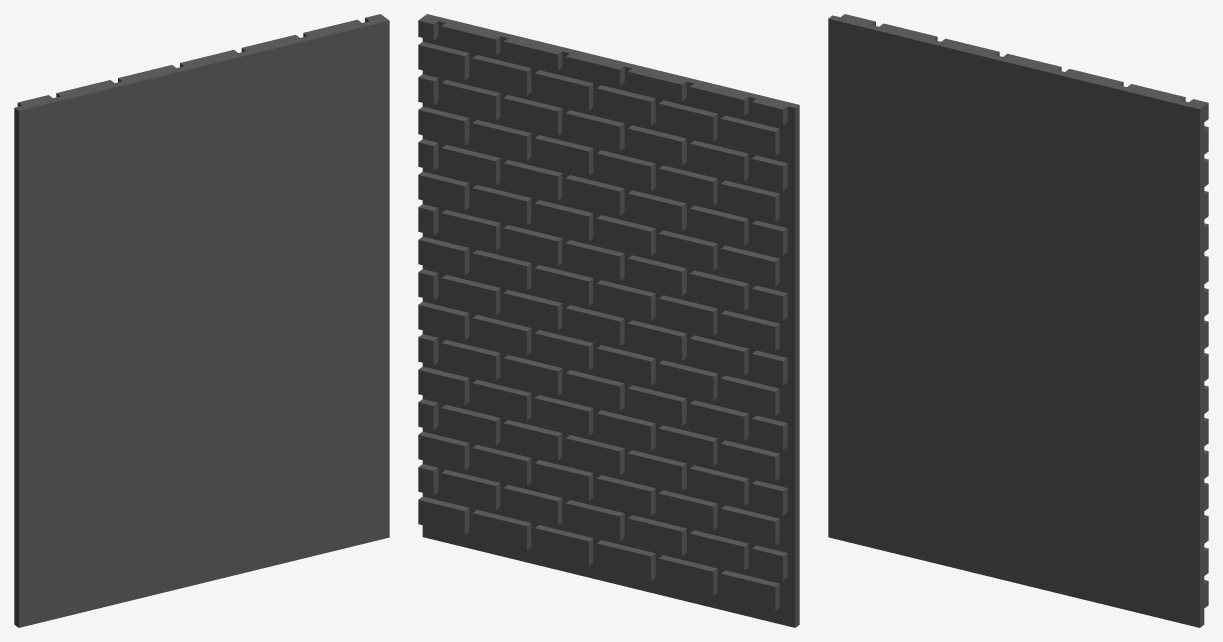
File: MapV3-44.obj
3 renders of one model, left to right at view 1: azimuth 30°, elevation 25°; view 2: azimuth 150°, elevation 25°; view 3: azimuth 330°, elevation 25°, orthographic.
Size of the model in its own units: 4.8 by 6.4 by 0.2.
1 material, 1 textured.
